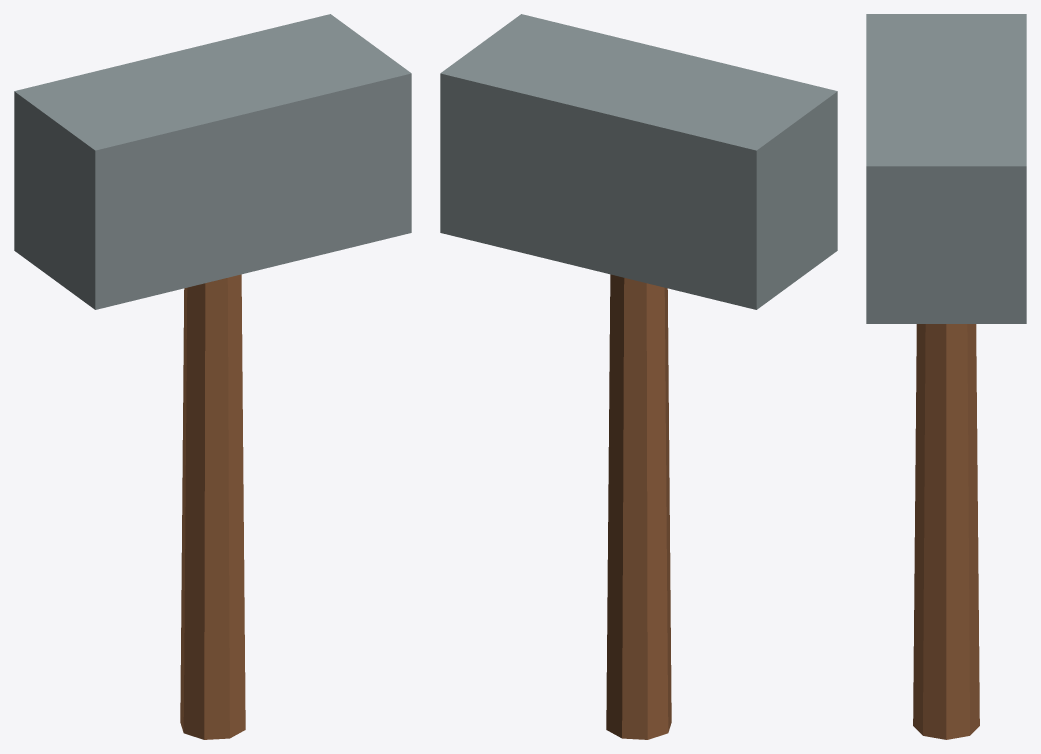
The model's file is wk_prop_hammer_v01.glb.
3 renders of one model, left to right at view 1: azimuth 30°, elevation 25°; view 2: azimuth 150°, elevation 25°; view 3: azimuth 270°, elevation 25°, orthographic.
Parts seen in each view (by area): view 1: GEO_HammerHead, GEO_hammer_Shaft; view 2: GEO_HammerHead, GEO_hammer_Shaft; view 3: GEO_HammerHead, GEO_hammer_Shaft.
Part boxes in pixels (x1,y1,x2,y2): GEO_HammerHead: (14,14,411,309); GEO_hammer_Shaft: (180,274,245,739); GEO_HammerHead: (440,14,837,309); GEO_hammer_Shaft: (606,274,671,739); GEO_HammerHead: (866,14,1026,323); GEO_hammer_Shaft: (913,324,979,739).
Bounding box in the file's own units: 0.27 × 0.525 × 0.12.
